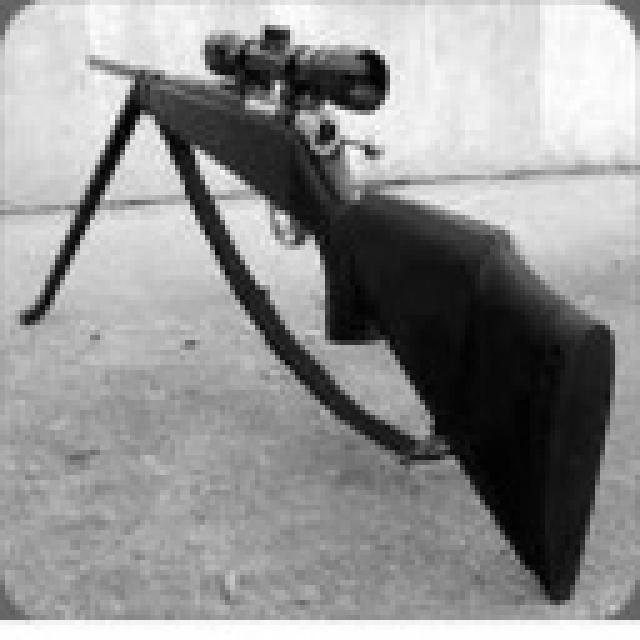Rifle: (14, 21, 636, 629)
